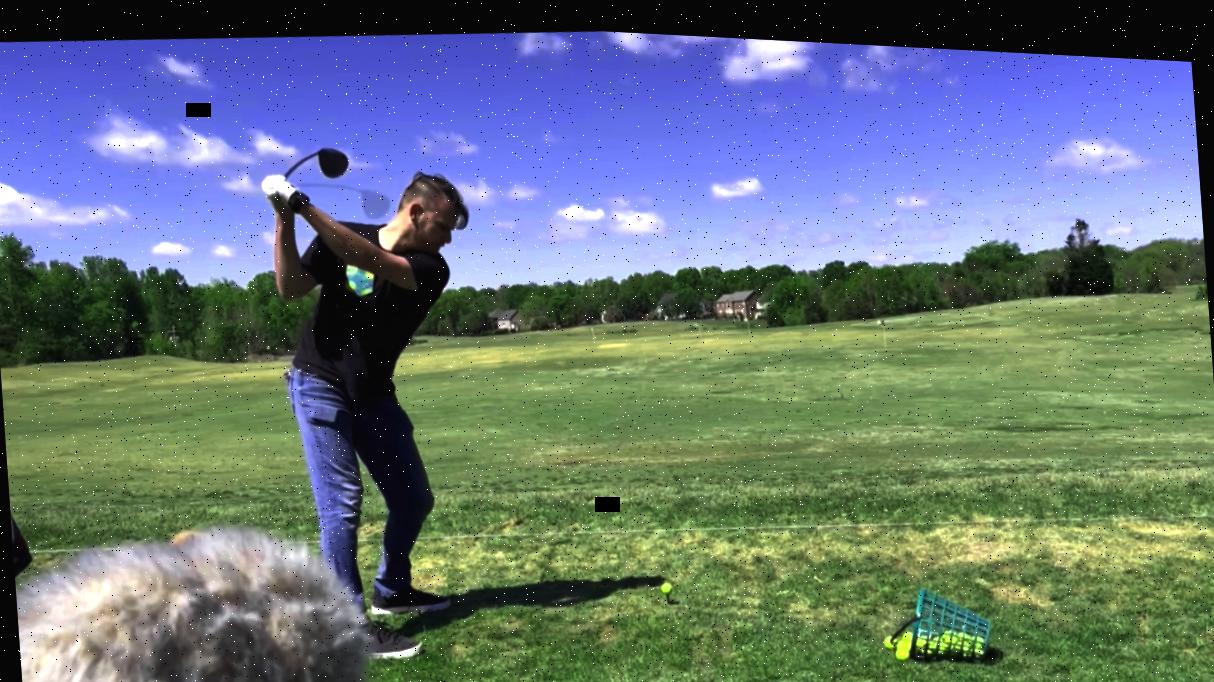ClubHead: (304, 134, 357, 183)
GolfBall: (658, 571, 677, 591)
